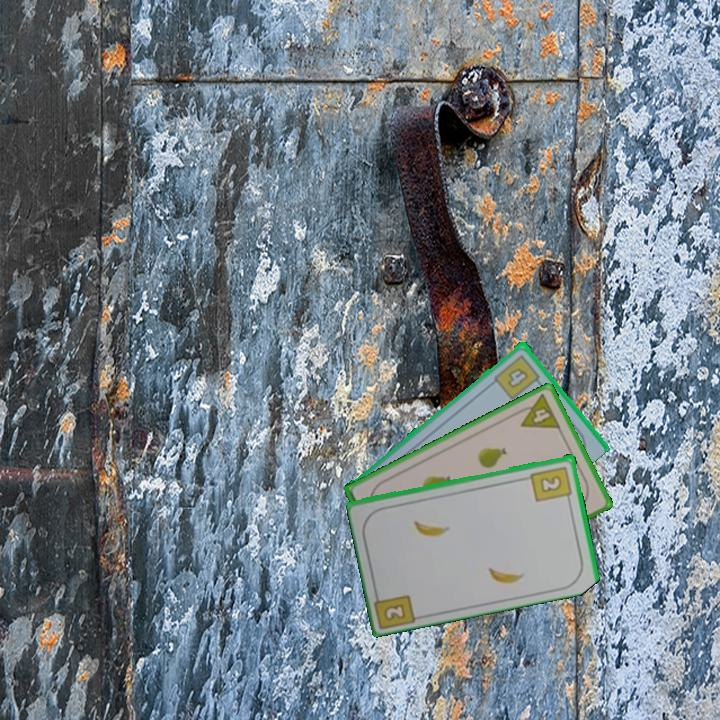2b: (528, 462, 575, 504), (380, 600, 409, 623)
4b: (491, 351, 545, 402)
4p: (511, 390, 563, 432)
